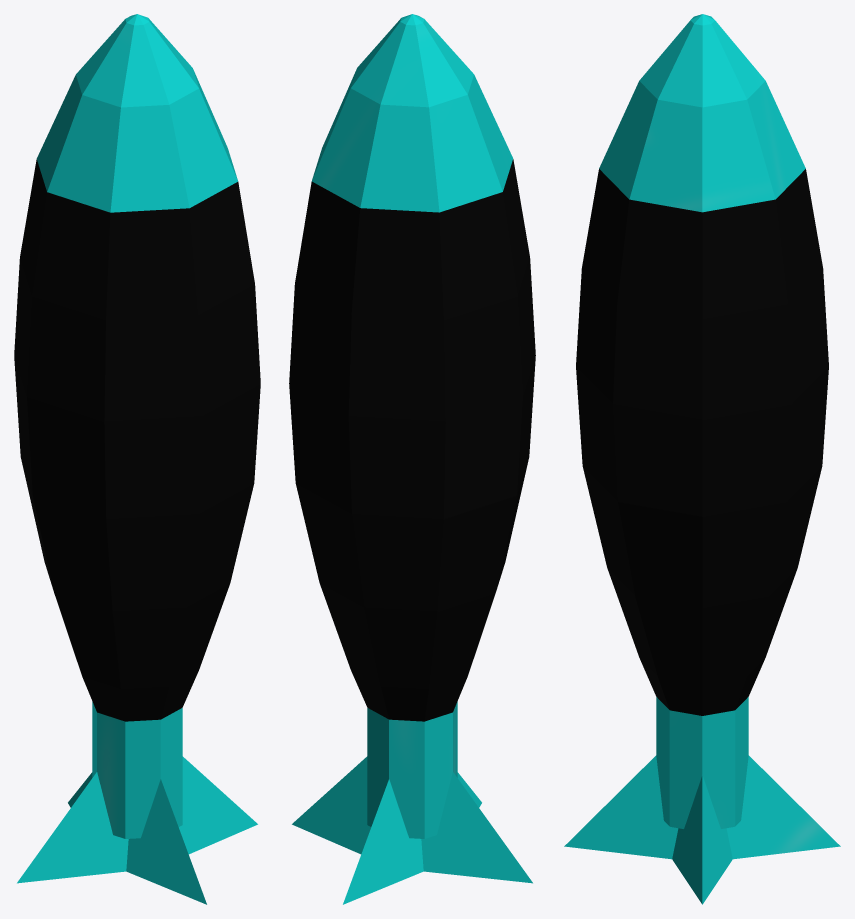
Rendered from Mortar_Projectile_Ice.fbx.
The picture shows the model from 3 angles, left to right: view 1: azimuth 30°, elevation 25°; view 2: azimuth 150°, elevation 25°; view 3: azimuth 270°, elevation 25°; orthographic projection.
Parts seen in each view (by area): view 1: Circle; view 2: Circle; view 3: Circle.
Part boxes in pixels (bbox=[...]): Circle: bbox=[14, 14, 260, 904]; Circle: bbox=[289, 14, 535, 904]; Circle: bbox=[564, 14, 840, 904].
Size of the model in its own units: 210 by 696 by 210.
1 material, 1 textured.
